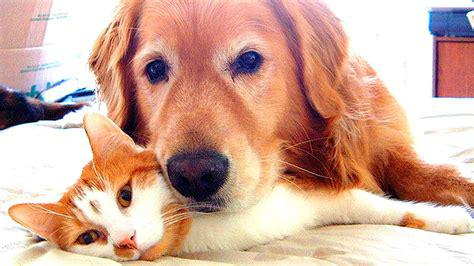cat: (9, 111, 473, 260)
dog: (90, 1, 474, 212)
